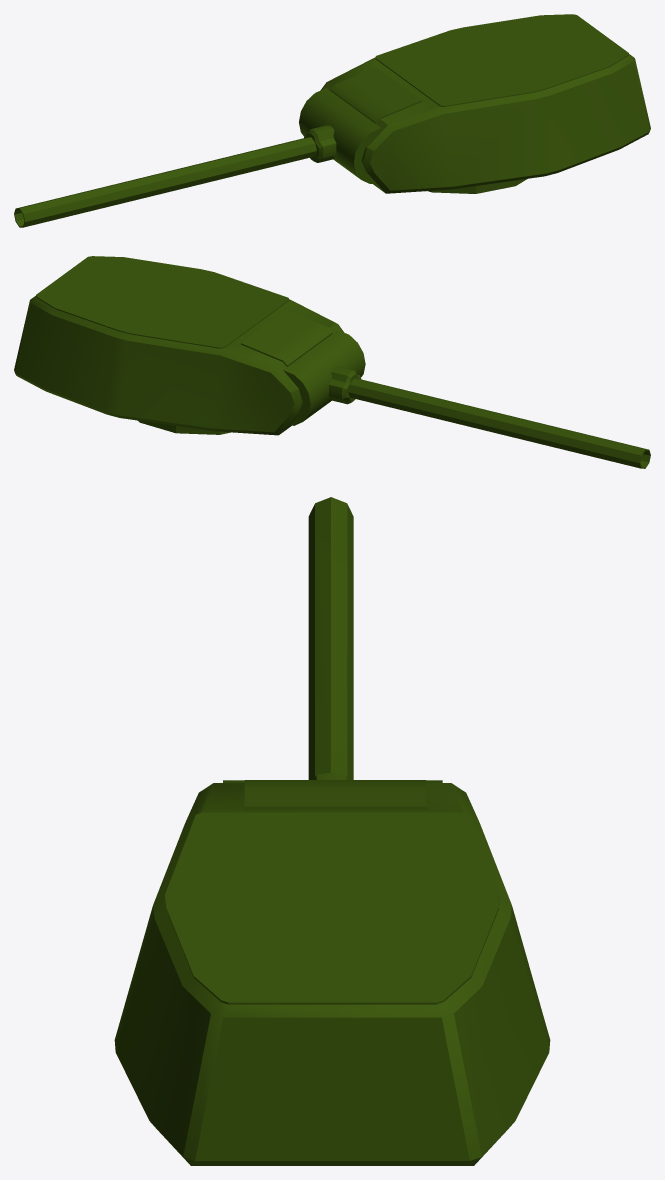
Rendered from T_34Turret.obj.
3 views of the same model, one above another, from view 1: azimuth 30°, elevation 25°; view 2: azimuth 150°, elevation 25°; view 3: azimuth 270°, elevation 25° (orthographic). The views are drawn at different scales.
Visible parts, largest first — view 1: turret; view 2: turret; view 3: turret.
Boxes of the visible parts, x1=… form: turret: x1=14, y1=14, x2=650, y2=227; turret: x1=14, y1=256, x2=650, y2=468; turret: x1=114, y1=497, x2=550, y2=1165.
Size of the model in its own units: 39.27 by 5.62 by 12.41.
1 material, 1 textured.
